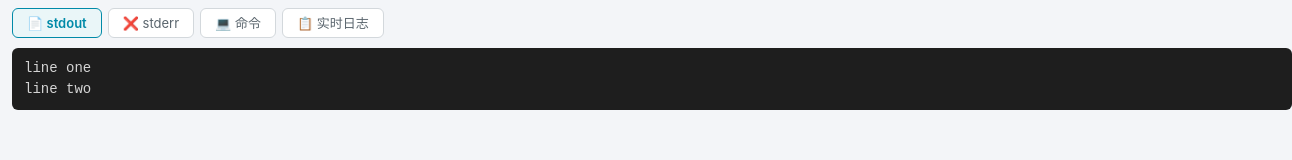
Test: NodeTaskLogViewer › shows command tab
Click the tab with class "ner-tab" showing "💻 命令" at (238, 23), box [200,8,276,38]
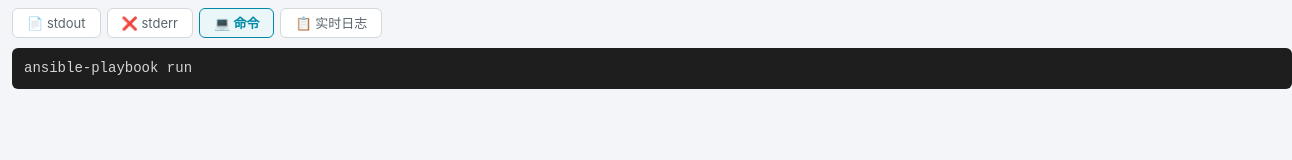
Now the text "ansible-playbook run" is shown, box [24,60,192,76]
